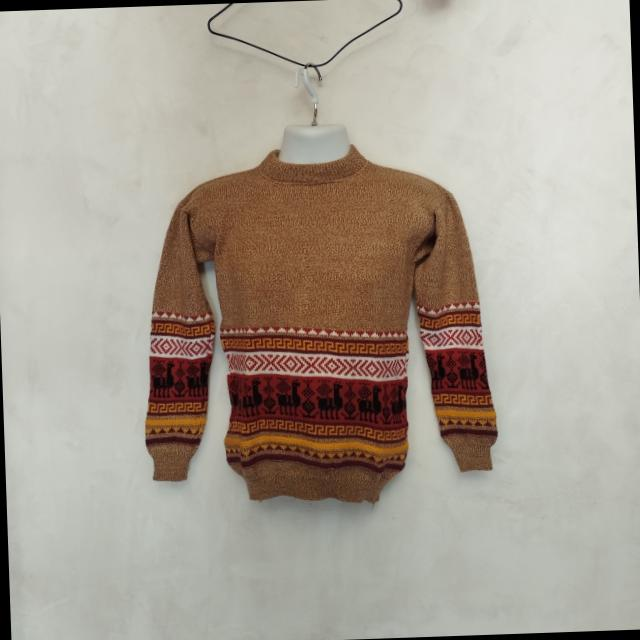Chompa: (134, 119, 501, 514)
